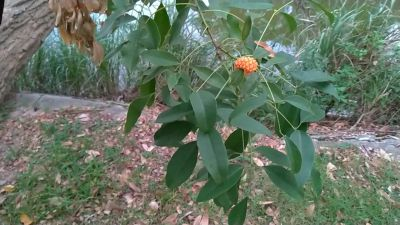eggs: (236, 56, 263, 77)
